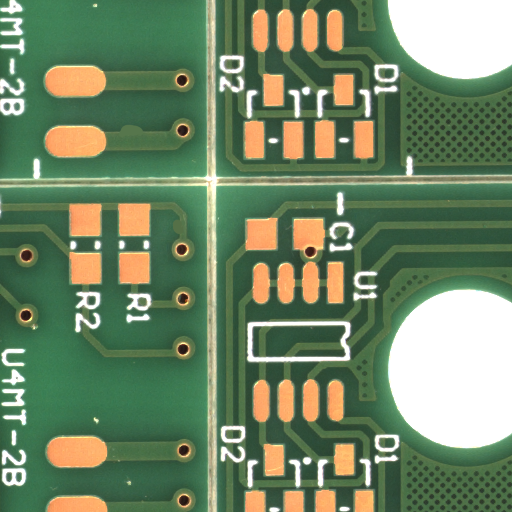Spur: (130, 130, 161, 142), (175, 226, 188, 243)
